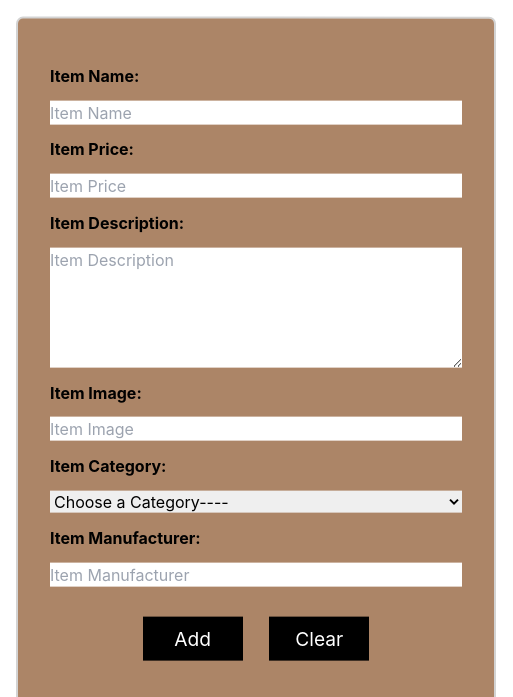
Scenario: should render form component properly › should clear all the input fields when clear button is clicked
The width and height of the screenshot is (513, 697).
Type "Item" into the field labelled "Item Name:" at (256,112), box [50,100,462,124]
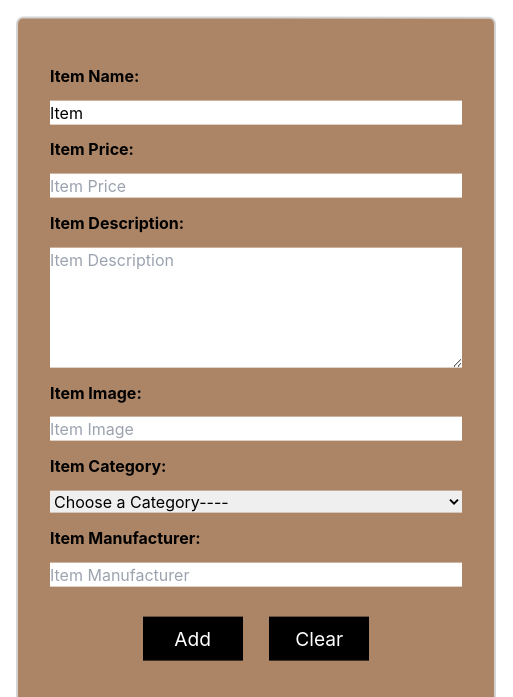
Type "20" into the number field labelled "Item Price:" at (256,186), box [50,174,462,198]
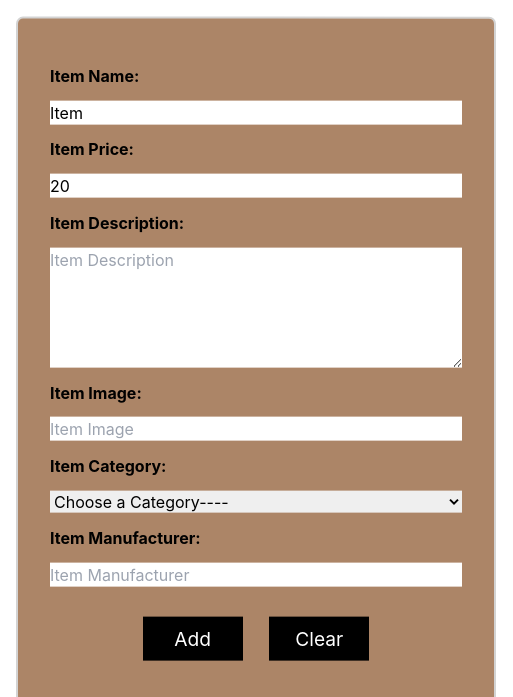
Type "Manufacturer" into the field labelled "Item Manufacturer:" at (256,574), box [50,562,462,586]
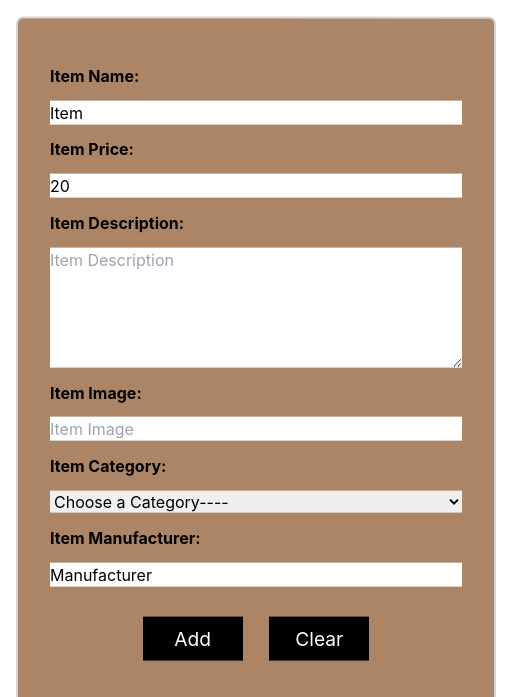
Type "Description" into the text box labelled "Item Description:" at (256,307), box [50,247,462,367]
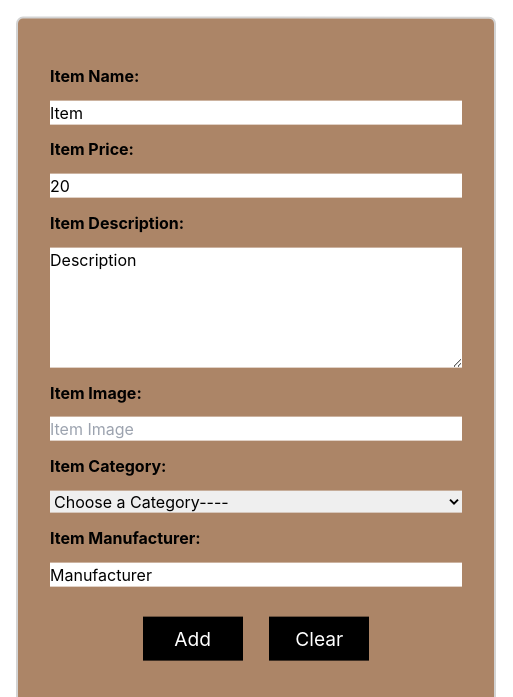
Type "image" into the field labelled "Item Image:" at (256,429), box [50,417,462,441]
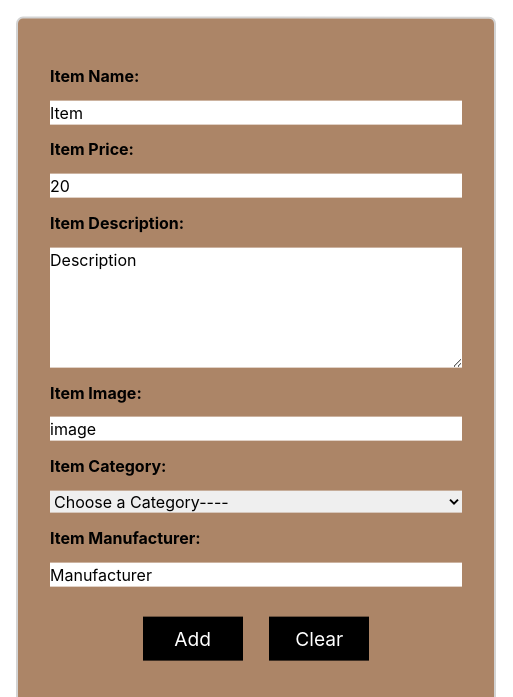
Click the button "Clear" at (319,639), box [269,616,369,661]
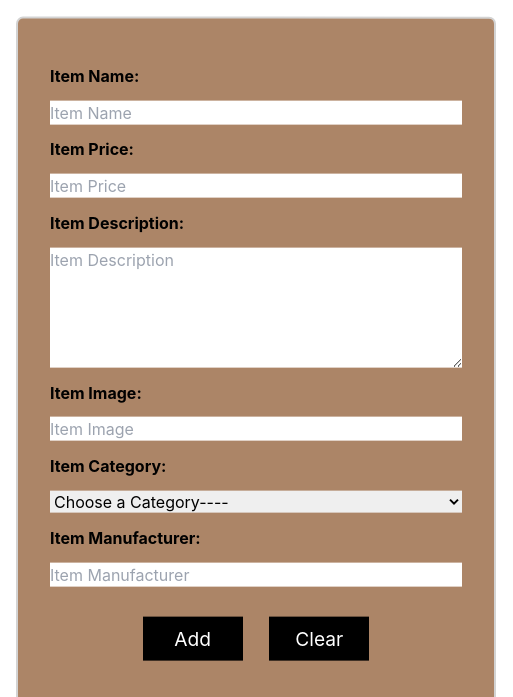
Expected: the field labelled "Item Name:" is empty, [50,100,462,124]
Expected: the number field labelled "Item Price:" is empty, [50,174,462,198]
Expected: the text box labelled "Item Description:" is empty, [50,247,462,367]
